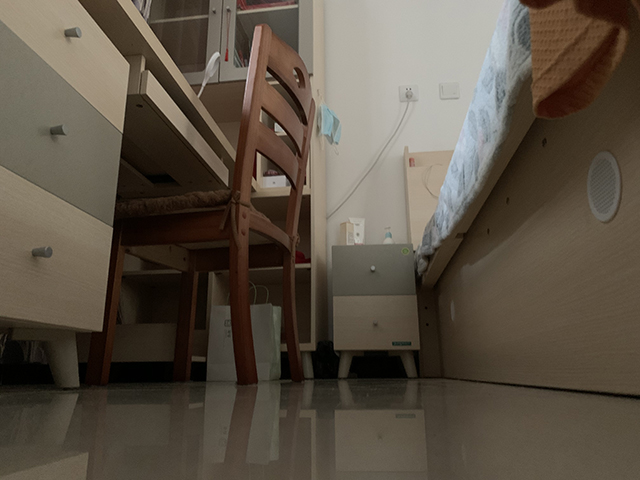bed: (402, 1, 640, 398)
cabinet: (329, 242, 423, 380)
stool: (80, 22, 319, 386)
table: (1, 1, 331, 386)
